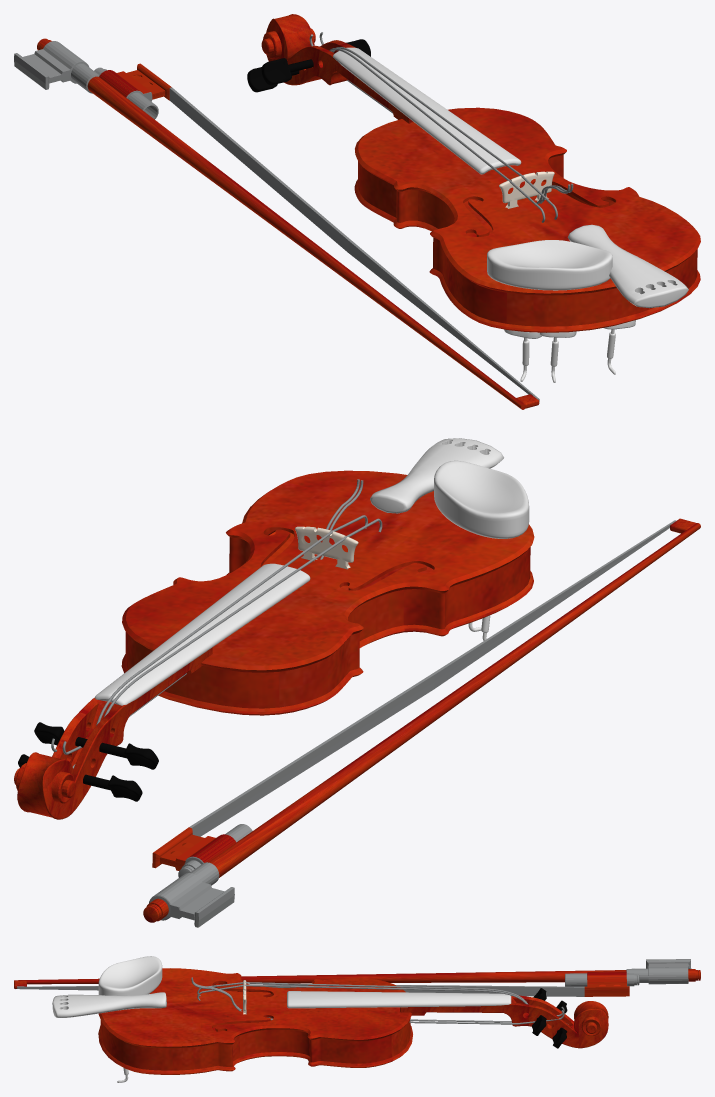
The model's file is Violin.FBX.
3 views of the same model, one above another, from view 1: azimuth 30°, elevation 25°; view 2: azimuth 150°, elevation 25°; view 3: azimuth 270°, elevation 25° (orthographic). The views are drawn at different scales.
Parts seen in each view (by area): view 1: Line01, 对象01, ChamferCyl01, ChamferBox01, 对象02, Cylinder04, Box03, 对象03, Line15, Cylinder02, Line21, Line03; view 2: Line01, 对象01, Cylinder04, 对象02, ChamferBox01, ChamferCyl01, Box03, 对象03, Line15, Cylinder02, Line21, Line03 (+1 smaller); view 3: Line01, 对象01, Cylinder04, ChamferBox01, ChamferCyl01, Box03, 对象02, 对象03, Line21, Line03, Line19, Line20 (+2 smaller).
Boxes of the visible parts, <box> form: Line01: <box>354,107,700,332</box>; 对象01: <box>37,38,539,409</box>; ChamferCyl01: <box>487,240,612,290</box>; ChamferBox01: <box>333,47,521,174</box>; 对象02: <box>169,87,539,401</box>; Cylinder04: <box>261,14,413,123</box>; Box03: <box>568,224,688,308</box>; 对象03: <box>14,41,158,119</box>; Line15: <box>499,171,554,208</box>; Cylinder02: <box>261,39,370,85</box>; Line21: <box>332,47,557,219</box>; Line03: <box>329,48,545,222</box>; Line01: <box>121,470,534,715</box>; 对象01: <box>143,518,700,922</box>; Cylinder04: <box>14,647,212,819</box>; 对象02: <box>189,520,676,836</box>; ChamferBox01: <box>94,563,310,705</box>; ChamferCyl01: <box>434,460,529,538</box>; Box03: <box>370,438,503,513</box>; 对象03: <box>149,824,252,927</box>; Line15: <box>295,526,358,569</box>; Cylinder02: <box>34,722,158,769</box>; Line21: <box>72,515,367,768</box>; Line03: <box>104,518,382,716</box>; Line01: <box>98,968,412,1074</box>; 对象01: <box>14,969,700,996</box>; Cylinder04: <box>400,995,608,1048</box>; ChamferBox01: <box>287,991,511,1008</box>; ChamferCyl01: <box>98,956,162,995</box>; Box03: <box>52,992,166,1017</box>; 对象02: <box>17,984,584,996</box>; 对象03: <box>565,959,691,986</box>; Line21: <box>197,984,526,1004</box>; Line03: <box>197,982,568,1024</box>; Line19: <box>191,978,564,1024</box>; Line20: <box>191,977,564,1022</box>.
Bounding box in the file's own units: 153 × 71.4 × 415.
